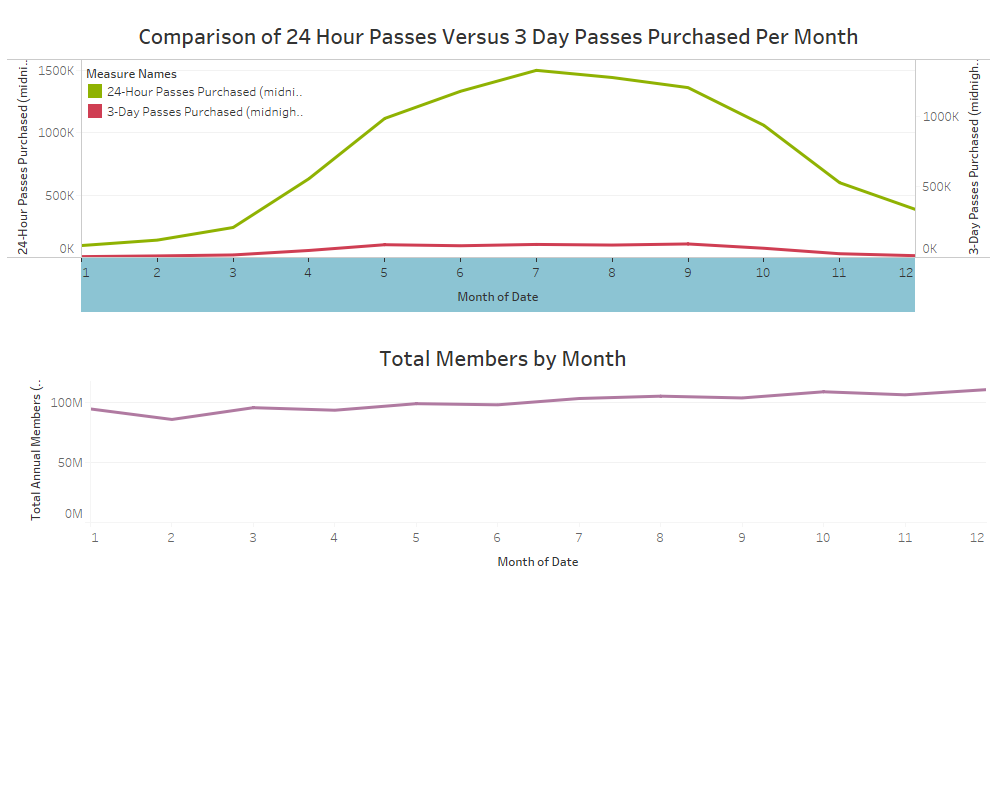

What the dashboard file says about the page in this screenshot:
{"tool":"tableau","page":{"name":"Membership","canvas":[1000,800],"ordinal":1},"visuals":[{"type":"worksheet","title":"Passes/Month","mark":"Automatic","rows":["59 pm)","59 pm)"],"cols":["Date"],"box":[7,15,983,298]},{"type":"legend","title":"Passes/Month","param":"[federated.0uc2wze0e0oavs0zziiqa0nlu8xf].[:Measure Names]","box":[85,63,221,88]},{"type":"worksheet","title":"Total Members/Month","mark":"Automatic","rows":["Total Annual Members (All Time)"],"cols":["Date"],"box":[16,333,974,248]}]}

Visuals, with their boxes in screenshot pixels (x1, y1, x2, y2), scaled from the page's 1000x800 canvas onto the 1000x800 screenshot:
"Passes/Month" worksheet: x1=7, y1=15, x2=990, y2=313
"Passes/Month" legend: x1=85, y1=63, x2=306, y2=151
"Total Members/Month" worksheet: x1=16, y1=333, x2=990, y2=581
